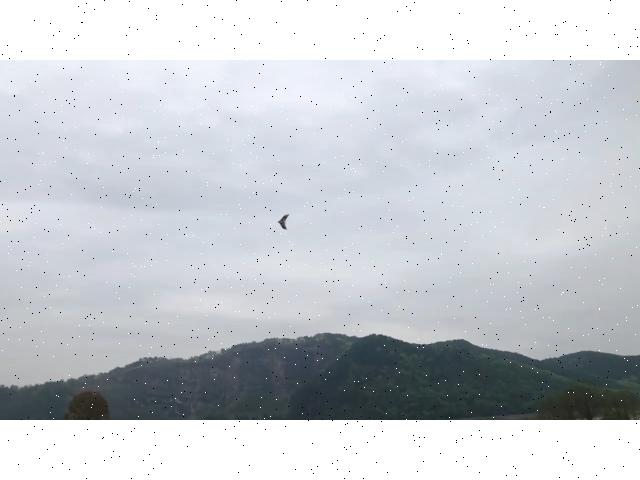Anti-Drone: (277, 214, 289, 230)
